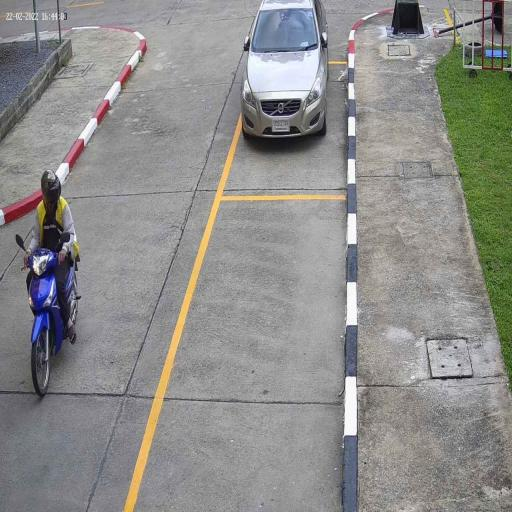car: (240, 0, 330, 146)
motorcycle: (25, 249, 80, 400)
